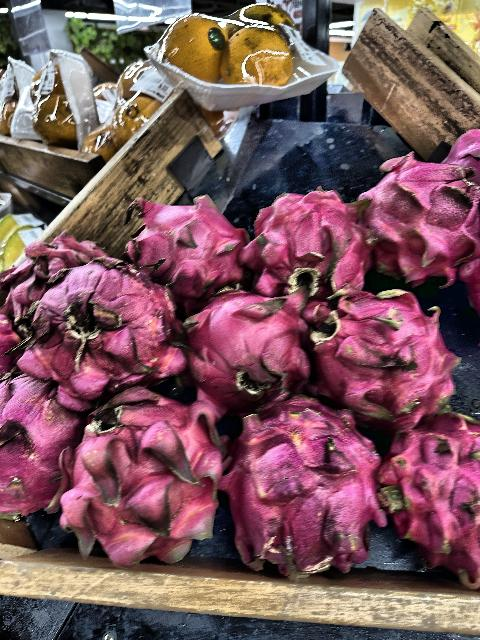buah-naga-matang: (229, 392, 385, 584), (74, 392, 224, 570), (304, 271, 460, 425), (15, 254, 183, 396), (378, 406, 480, 610), (352, 132, 480, 294), (179, 281, 304, 415), (246, 188, 374, 312), (111, 183, 245, 299), (8, 362, 78, 526)
